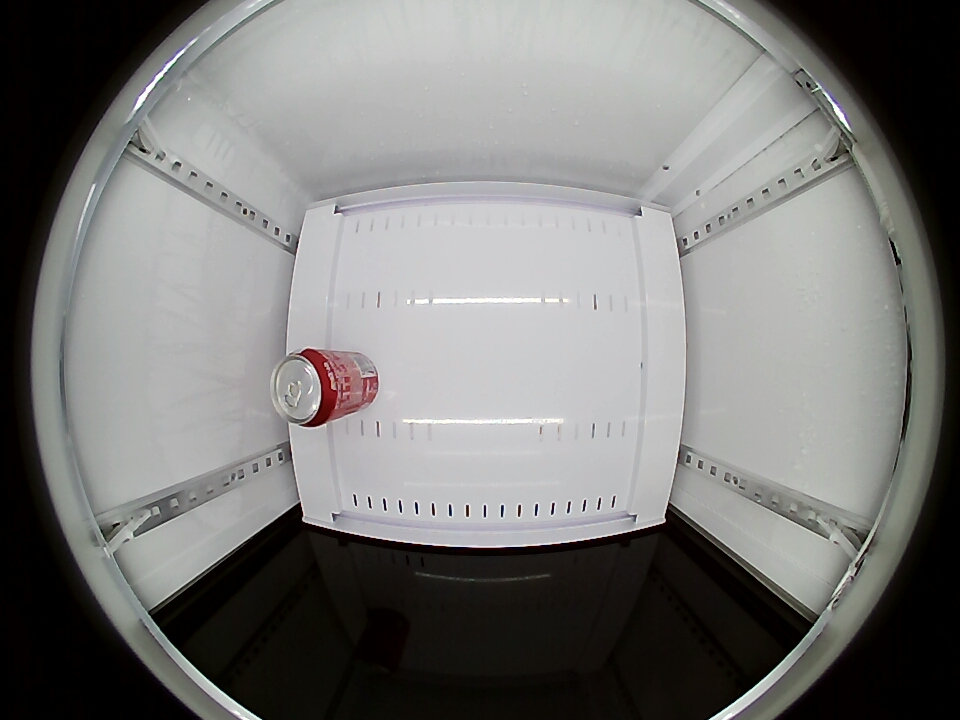kele: (270, 348, 342, 428)
